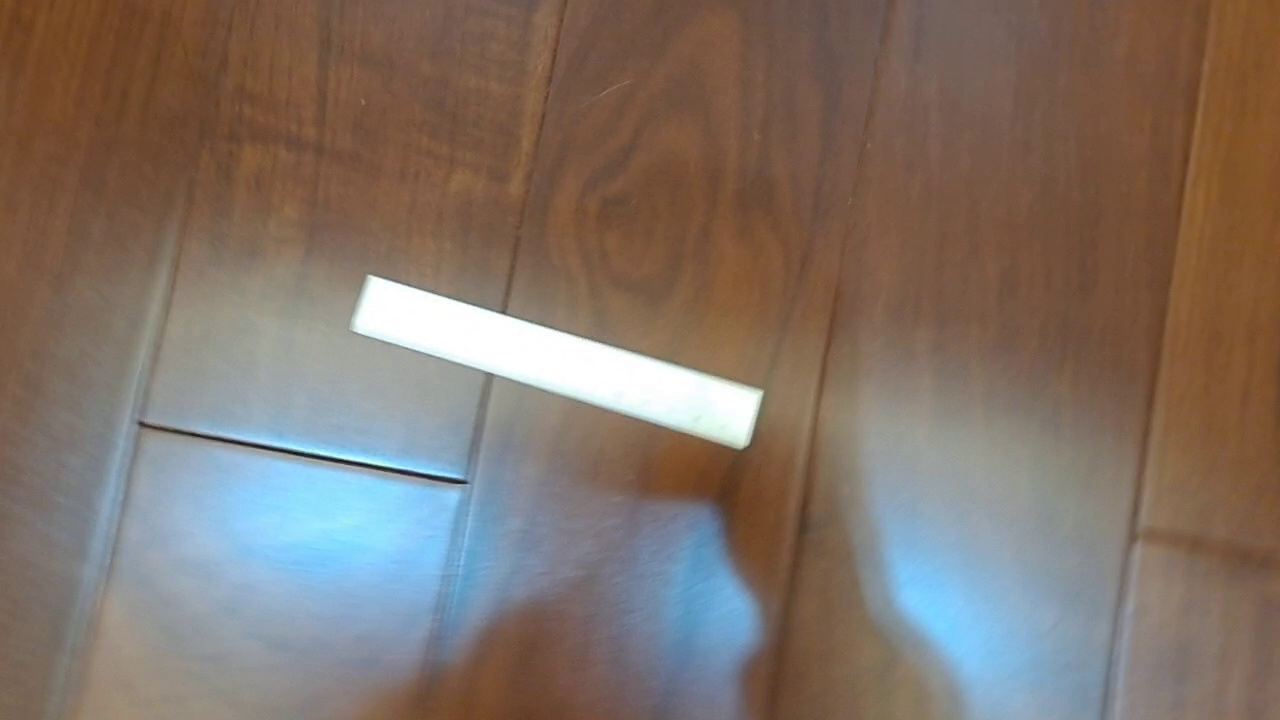ruler: (345, 273, 766, 452)
